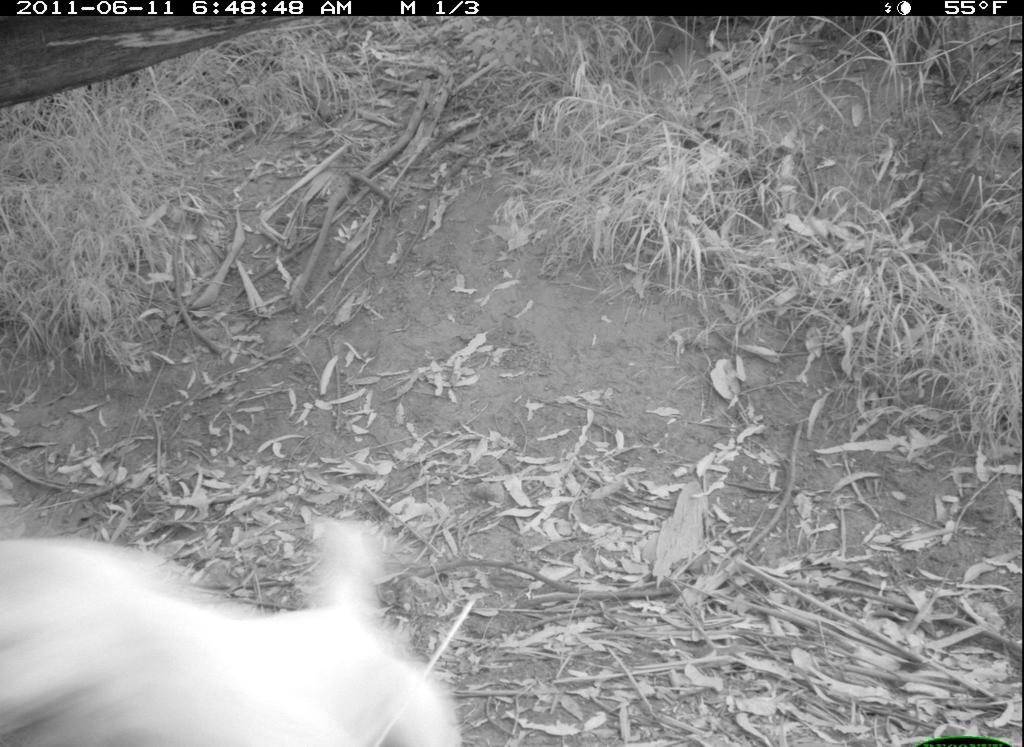dog: (2, 492, 469, 747)
